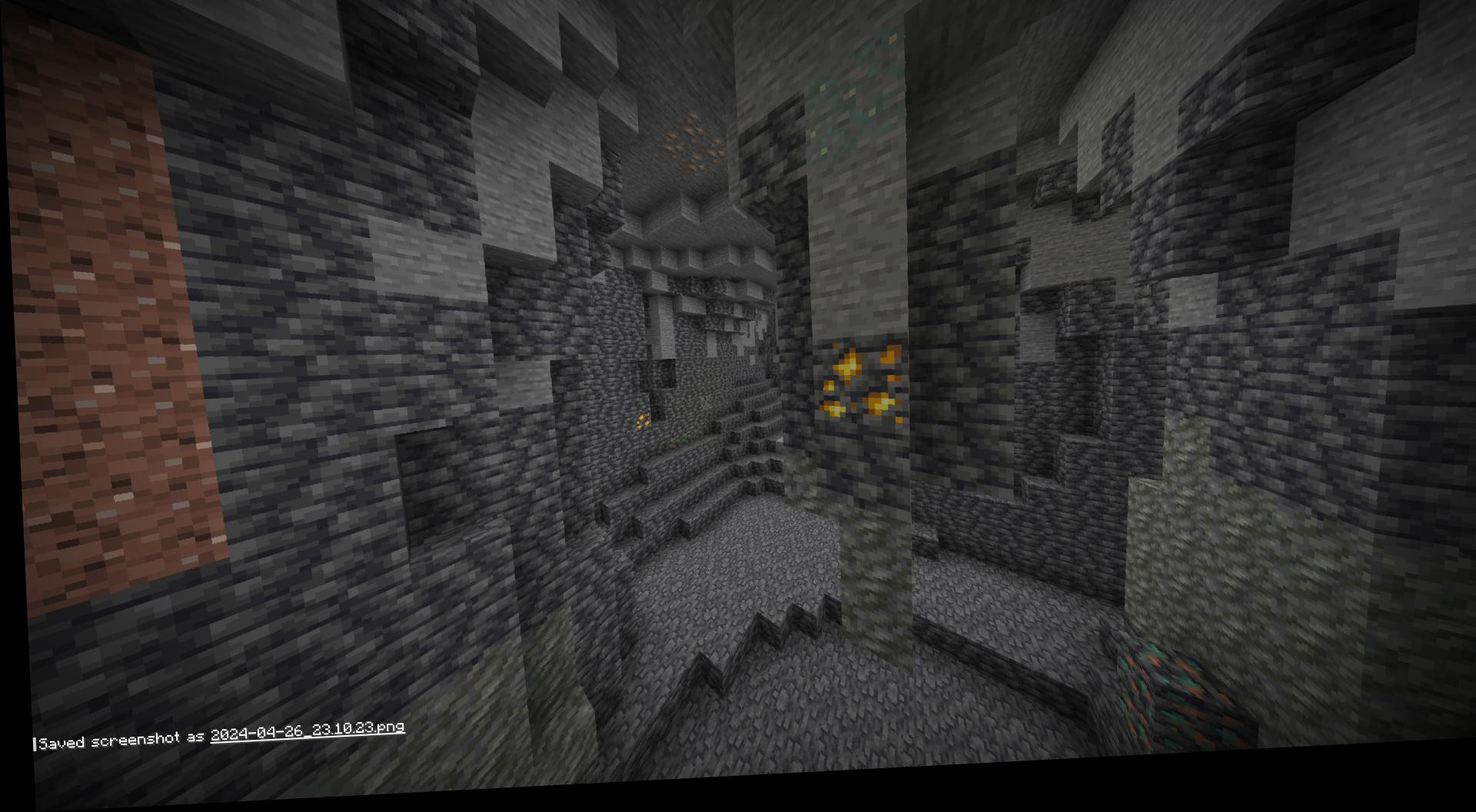gold ore: (808, 342, 907, 437), (630, 415, 650, 438)
